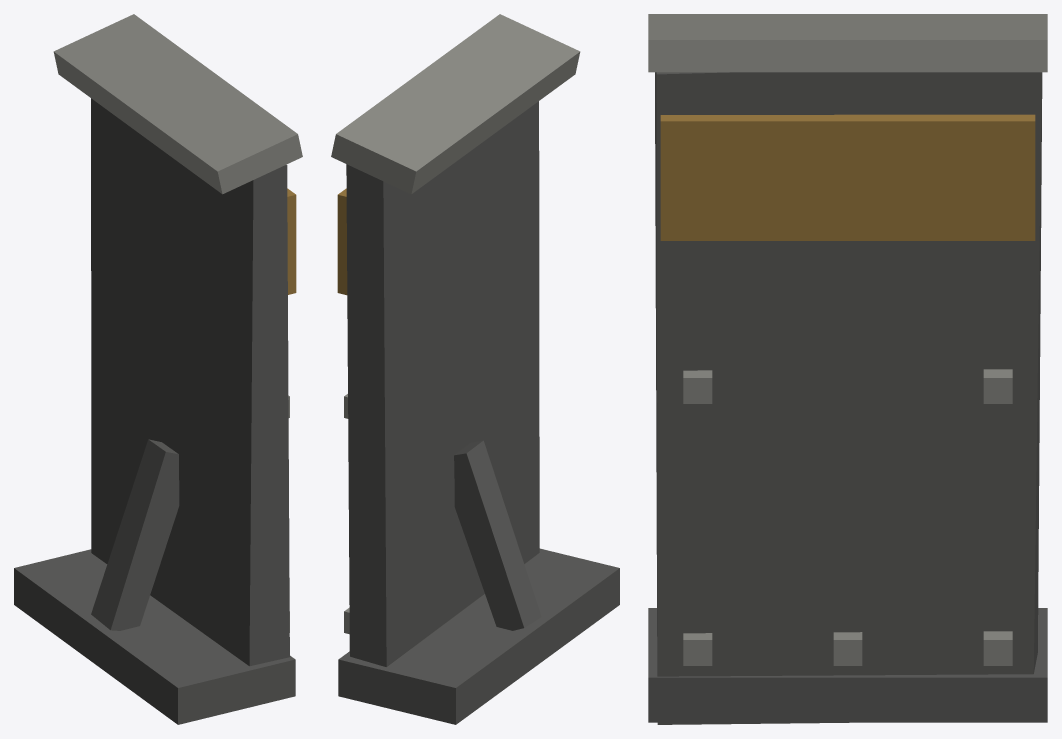
The model's file is arm_plate.glb.
3 views of the same model, side by side, from view 1: azimuth 30°, elevation 25°; view 2: azimuth 150°, elevation 25°; view 3: azimuth 270°, elevation 25° (orthographic). The views are drawn at different scales.
Visible parts, largest first — view 1: arm_plate; view 2: arm_plate; view 3: arm_plate.
Boxes of the visible parts, bbox=[...] form: arm_plate: bbox=[14, 14, 302, 724]; arm_plate: bbox=[331, 14, 619, 724]; arm_plate: bbox=[648, 14, 1047, 724].
Bounding box in the file's own units: 0.215 × 0.9211 × 0.484.
